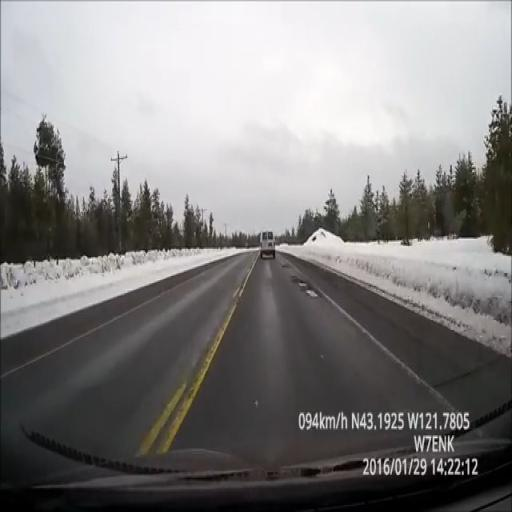Potholes: (282, 263, 319, 297)
